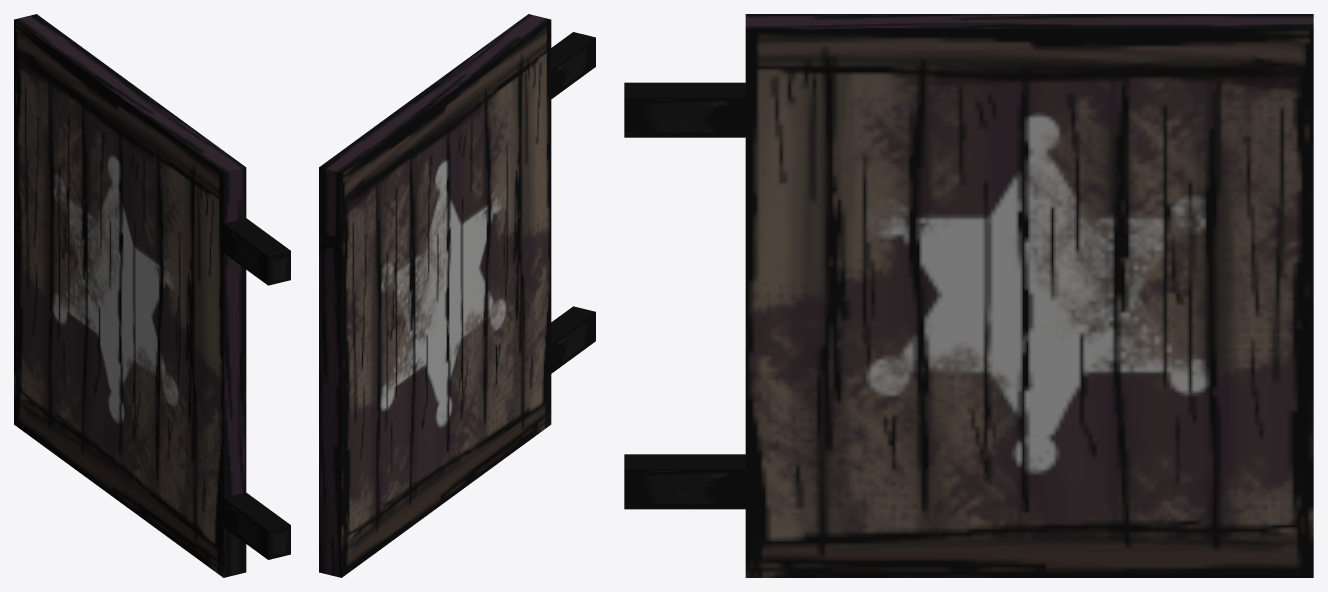
The model's file is Sign_Sheriff_Side.fbx.
The picture shows the model from 3 angles, left to right: view 1: azimuth 30°, elevation 25°; view 2: azimuth 150°, elevation 25°; view 3: azimuth 270°, elevation 25°; orthographic projection. The views are drawn at different scales.
Parts seen in each view (by area): view 1: SherrifSideHanging1; view 2: SherrifSideHanging1; view 3: SherrifSideHanging1.
Boxes of the visible parts, x1,y1,x2,y2 form: SherrifSideHanging1: (14,14,290,577); SherrifSideHanging1: (319,14,595,577); SherrifSideHanging1: (624,14,1313,577).
Bounding box in the file's own units: 0.3331 × 5.7 × 6.49.
